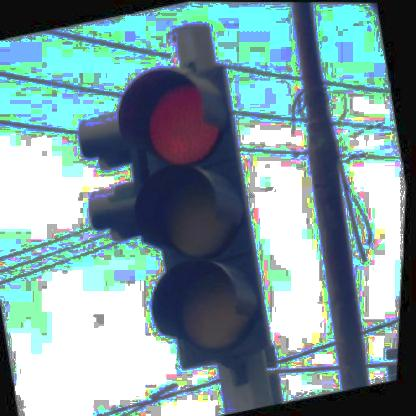Traffic Light -Red-: (101, 56, 290, 375)
